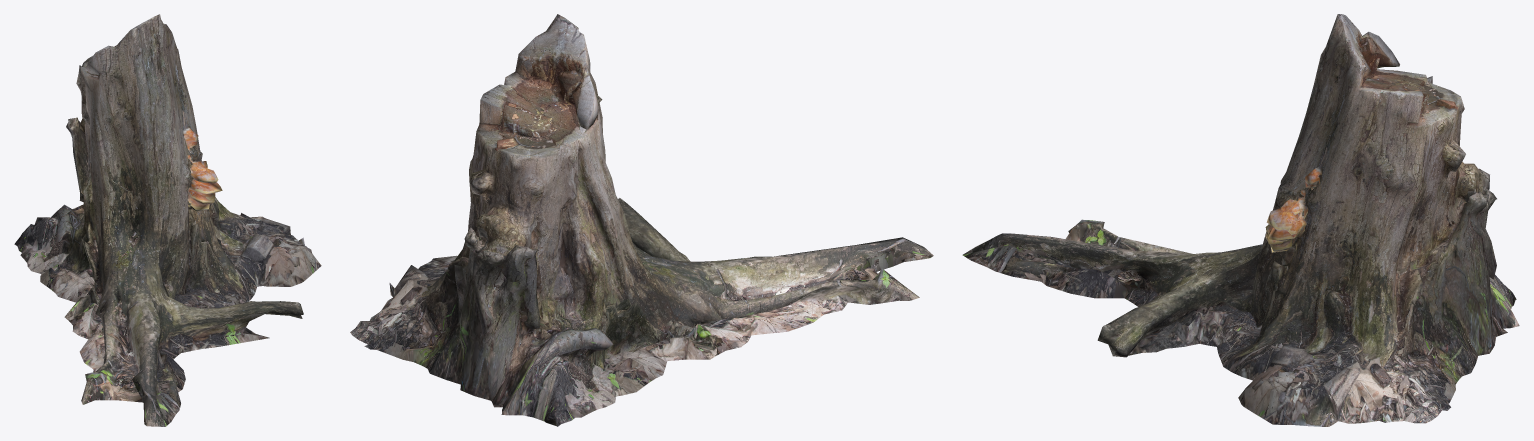
The model's file is sm_TreeStump_03_01.fbx.
The picture shows the model from 3 angles, left to right: view 1: azimuth 30°, elevation 25°; view 2: azimuth 150°, elevation 25°; view 3: azimuth 270°, elevation 25°; orthographic projection. The views are drawn at different scales.
Parts seen in each view (by area): view 1: sm_TreeStump_03_01_LOD0; view 2: sm_TreeStump_03_01_LOD0; view 3: sm_TreeStump_03_01_LOD0.
Part boxes in pixels (x1,y1,x2,y2): sm_TreeStump_03_01_LOD0: [14, 14, 321, 426]; sm_TreeStump_03_01_LOD0: [350, 14, 933, 426]; sm_TreeStump_03_01_LOD0: [962, 14, 1519, 426].
Bounding box in the file's own units: 106 × 127 × 82.36.
